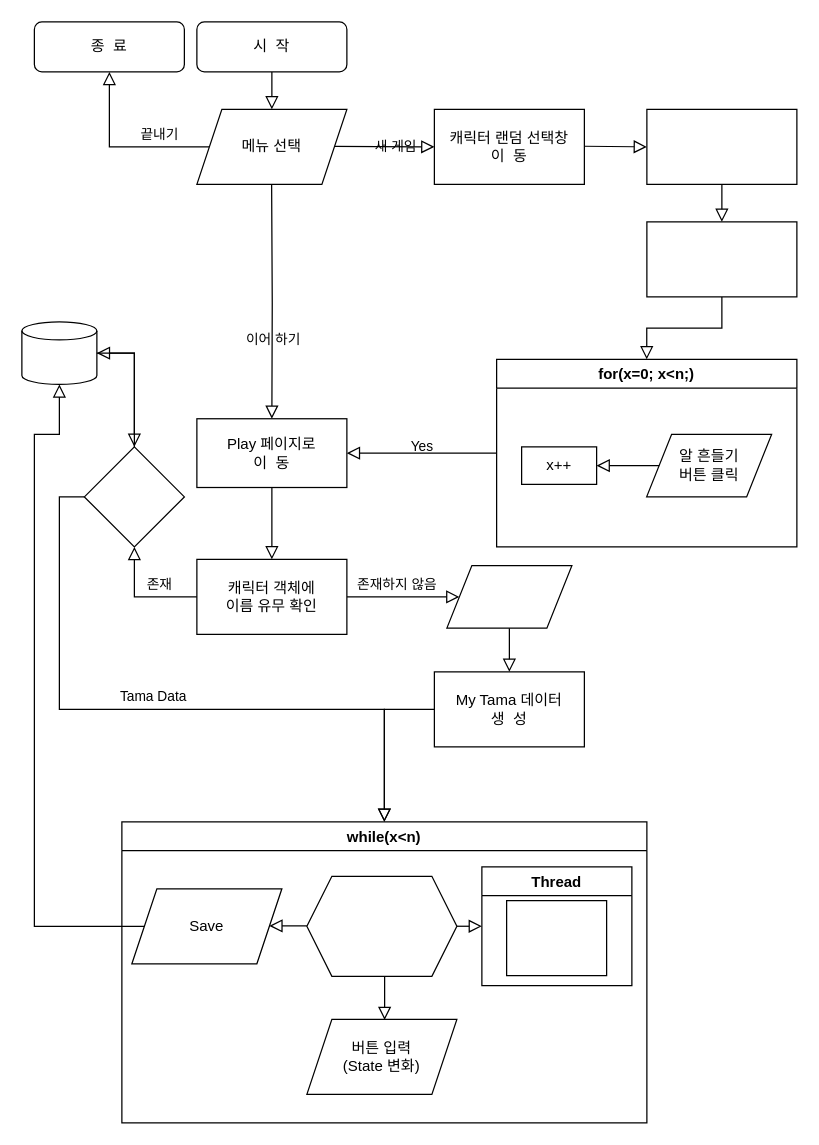
This 819x1145 diagram has some shape labels left out. Each missing label, with the centre of its shape:
Call Data: point 133,496
DB (My Tama): point 59,352
ID 별 캐릭터 알 출력: point 721,259
My Tama: point 381,925
My Tama 이름 입력: point 509,596
공복, 기분 체력 감소: point 556,937
카드 선택에 따른 캐릭터 ID 부여: point 721,146
